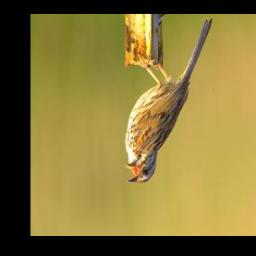Sparrow: (125, 19, 214, 186)
